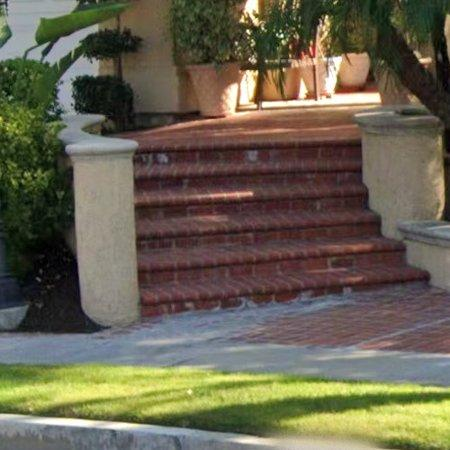stairs: (122, 108, 428, 316)
